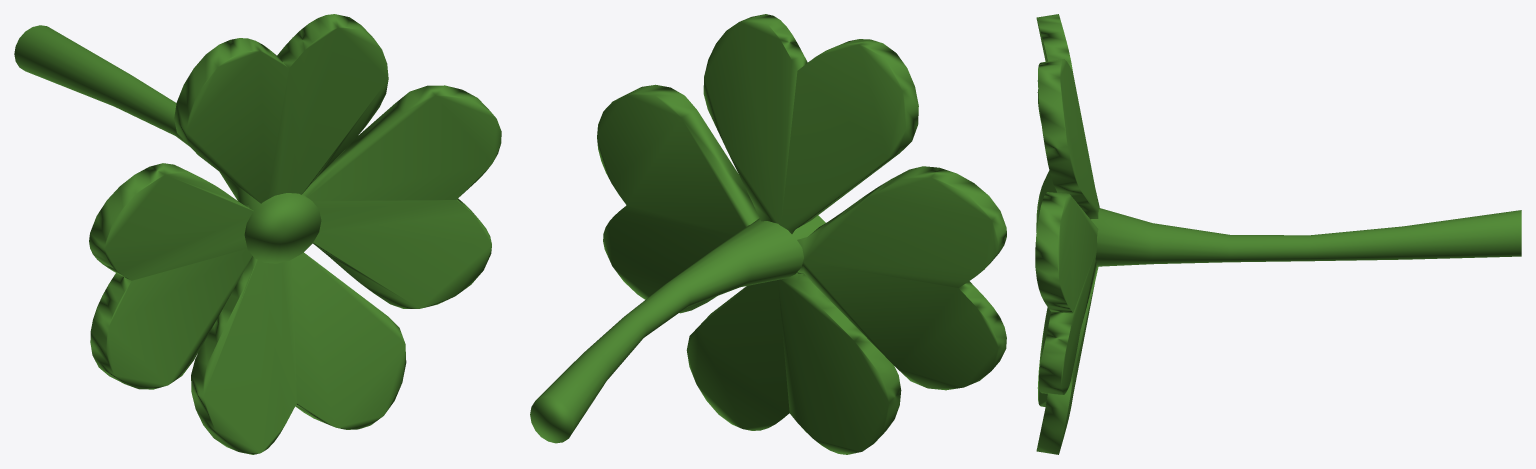
The model's file is clover.glb.
3 renders of one model, left to right at view 1: azimuth 30°, elevation 25°; view 2: azimuth 150°, elevation 25°; view 3: azimuth 270°, elevation 25°, orthographic. The views are drawn at different scales.
Parts seen in each view (by area): view 1: clover:mmGroup0; view 2: clover:mmGroup0; view 3: clover:mmGroup0.
Part boxes in pixels (x1,y1,x2,y2): clover:mmGroup0: (14, 14, 501, 454); clover:mmGroup0: (530, 14, 1006, 454); clover:mmGroup0: (1035, 14, 1521, 454).
Bounding box in the file's own units: 5.48 × 5.38 × 6.21.
